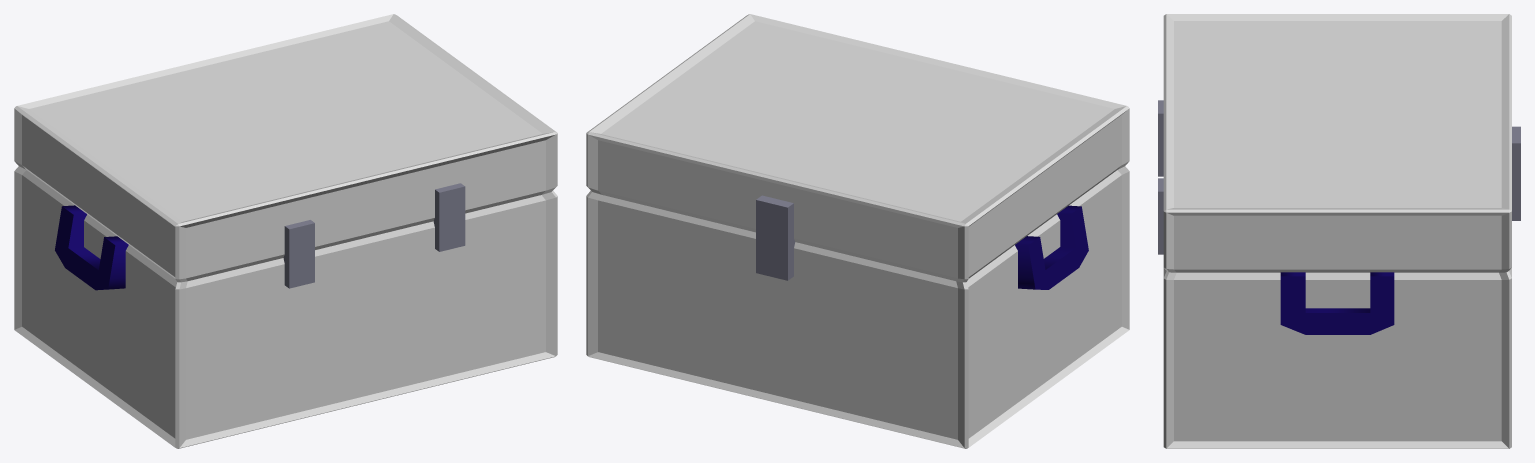
File: MetalBox2.fbx
The picture shows the model from 3 angles, left to right: view 1: azimuth 30°, elevation 25°; view 2: azimuth 150°, elevation 25°; view 3: azimuth 270°, elevation 25°; orthographic projection. The views are drawn at different scales.
Visible parts, largest first — view 1: MetalBox2.001; view 2: MetalBox2.001; view 3: MetalBox2.001.
Boxes of the visible parts, x1,y1,x2,y2 form: MetalBox2.001: (14,14,557,448); MetalBox2.001: (586,14,1129,448); MetalBox2.001: (1158,14,1520,448).
Bounding box in the file's own units: 78.06 × 40.88 × 56.15.
